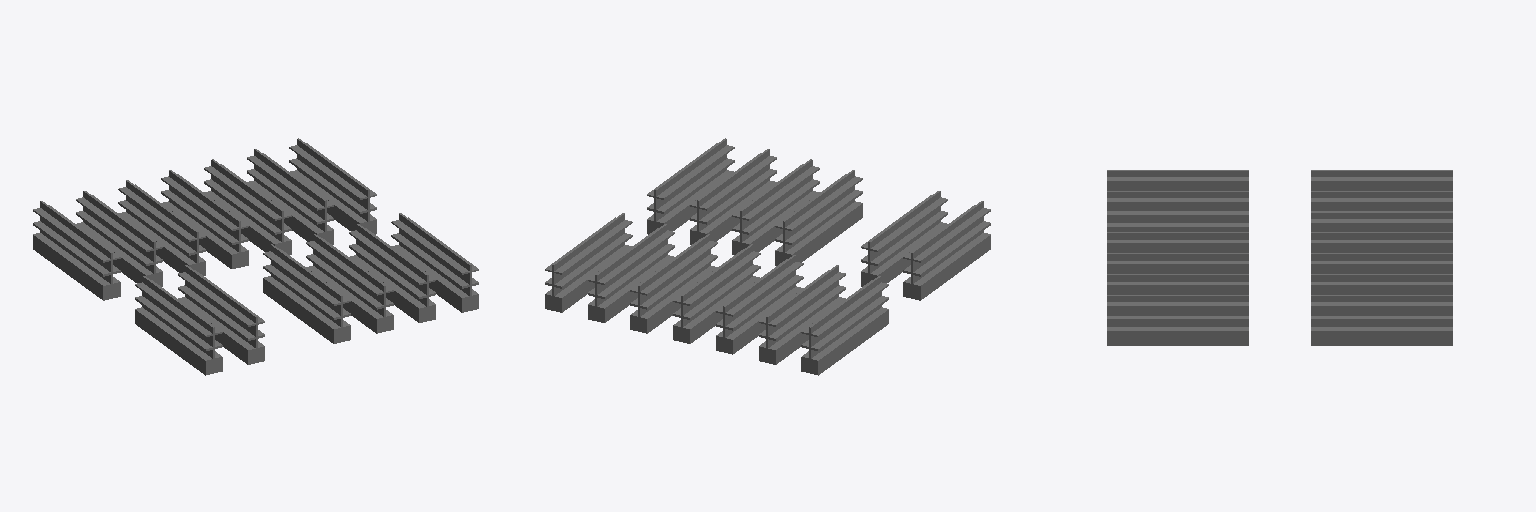
Rendered from shopShelves.obj.
3 renders of one model, left to right at view 1: azimuth 30°, elevation 25°; view 2: azimuth 150°, elevation 25°; view 3: azimuth 270°, elevation 25°, orthographic.
Visible parts, largest first — view 1: shopShelves:pCube28 polySurface3, shopShelves:pCube28 polySurface4, shopShelves:pCube28 polySurface10, shopShelves:pCube28 polySurface13, shopShelves:pCube28 polySurface2, shopShelves:pCube28 polySurface11, shopShelves:pCube28 polySurface6, shopShelves:pCube28 polySurface7, shopShelves:pCube28 polySurface12, polySurface1 shopShelves:pCube28, shopShelves:pCube28 polySurface8, shopShelves:pCube28 polySurface5 (+1 smaller); view 2: shopShelves:pCube28 polySurface4, shopShelves:pCube28 polySurface3, shopShelves:pCube28 polySurface10, shopShelves:pCube28 polySurface12, shopShelves:pCube28 polySurface8, polySurface1 shopShelves:pCube28, shopShelves:pCube28 polySurface11, shopShelves:pCube28 polySurface5, shopShelves:pCube28 polySurface9, shopShelves:pCube28 polySurface13, shopShelves:pCube28 polySurface2, shopShelves:pCube28 polySurface6 (+1 smaller); view 3: polySurface1 shopShelves:pCube28, shopShelves:pCube28 polySurface2, shopShelves:pCube28 polySurface7, shopShelves:pCube28 polySurface3, shopShelves:pCube28 polySurface4, shopShelves:pCube28 polySurface5, shopShelves:pCube28 polySurface6, shopShelves:pCube28 polySurface9, shopShelves:pCube28 polySurface10, shopShelves:pCube28 polySurface11, shopShelves:pCube28 polySurface12, shopShelves:pCube28 polySurface13 (+1 smaller).
Boxes of the visible parts, x1,y1,x2,y2 form: shopShelves:pCube28 polySurface3: [135, 276, 222, 375]; shopShelves:pCube28 polySurface4: [33, 201, 120, 300]; shopShelves:pCube28 polySurface10: [263, 244, 350, 343]; shopShelves:pCube28 polySurface13: [306, 234, 393, 333]; shopShelves:pCube28 polySurface2: [391, 213, 478, 312]; shopShelves:pCube28 polySurface11: [161, 170, 248, 268]; shopShelves:pCube28 polySurface6: [349, 224, 435, 322]; shopShelves:pCube28 polySurface7: [178, 265, 264, 364]; shopShelves:pCube28 polySurface12: [204, 159, 291, 254]; polySurface1 shopShelves:pCube28: [289, 138, 376, 234]; shopShelves:pCube28 polySurface8: [118, 180, 205, 275]; shopShelves:pCube28 polySurface5: [247, 149, 333, 244]; shopShelves:pCube28 polySurface4: [801, 276, 888, 375]; shopShelves:pCube28 polySurface3: [903, 201, 990, 300]; shopShelves:pCube28 polySurface10: [775, 170, 862, 265]; shopShelves:pCube28 polySurface12: [630, 234, 717, 333]; shopShelves:pCube28 polySurface8: [716, 255, 803, 354]; polySurface1 shopShelves:pCube28: [545, 213, 632, 312]; shopShelves:pCube28 polySurface11: [673, 244, 760, 343]; shopShelves:pCube28 polySurface5: [588, 224, 674, 322]; shopShelves:pCube28 polySurface9: [759, 265, 845, 364]; shopShelves:pCube28 polySurface13: [732, 159, 819, 254]; shopShelves:pCube28 polySurface2: [647, 138, 734, 234]; shopShelves:pCube28 polySurface6: [690, 149, 776, 244]; polySurface1 shopShelves:pCube28: [1311, 295, 1452, 345]; shopShelves:pCube28 polySurface2: [1107, 295, 1248, 345]; shopShelves:pCube28 polySurface7: [1107, 191, 1248, 231]; shopShelves:pCube28 polySurface3: [1107, 170, 1248, 190]; shopShelves:pCube28 polySurface4: [1311, 170, 1452, 190]; shopShelves:pCube28 polySurface5: [1311, 274, 1452, 294]; shopShelves:pCube28 polySurface6: [1107, 274, 1248, 294]; shopShelves:pCube28 polySurface9: [1311, 191, 1452, 211]; shopShelves:pCube28 polySurface10: [1107, 232, 1248, 252]; shopShelves:pCube28 polySurface11: [1311, 232, 1452, 252]; shopShelves:pCube28 polySurface12: [1311, 253, 1452, 273]; shopShelves:pCube28 polySurface13: [1107, 253, 1248, 273].
Size of the model in its own units: 1283 by 206 by 1403.